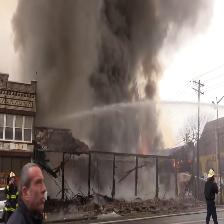smoke: (29, 0, 148, 143)
